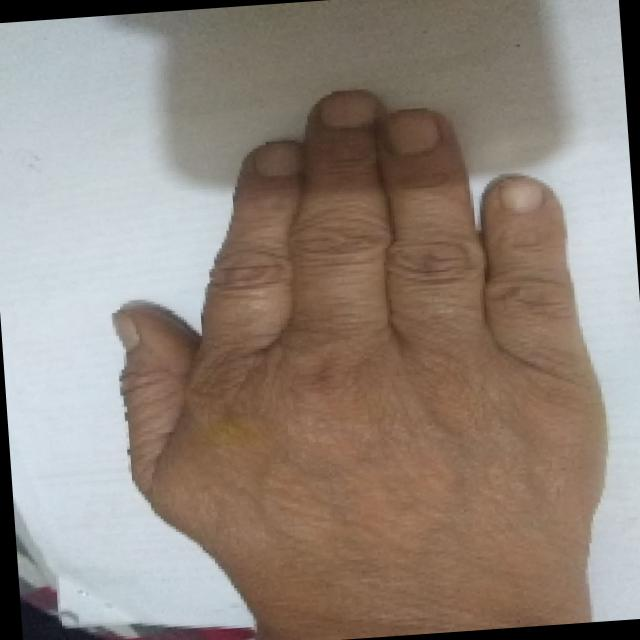Nail: (386, 109, 439, 154), (317, 90, 376, 127), (253, 140, 301, 176), (497, 175, 542, 212), (112, 310, 139, 350)
